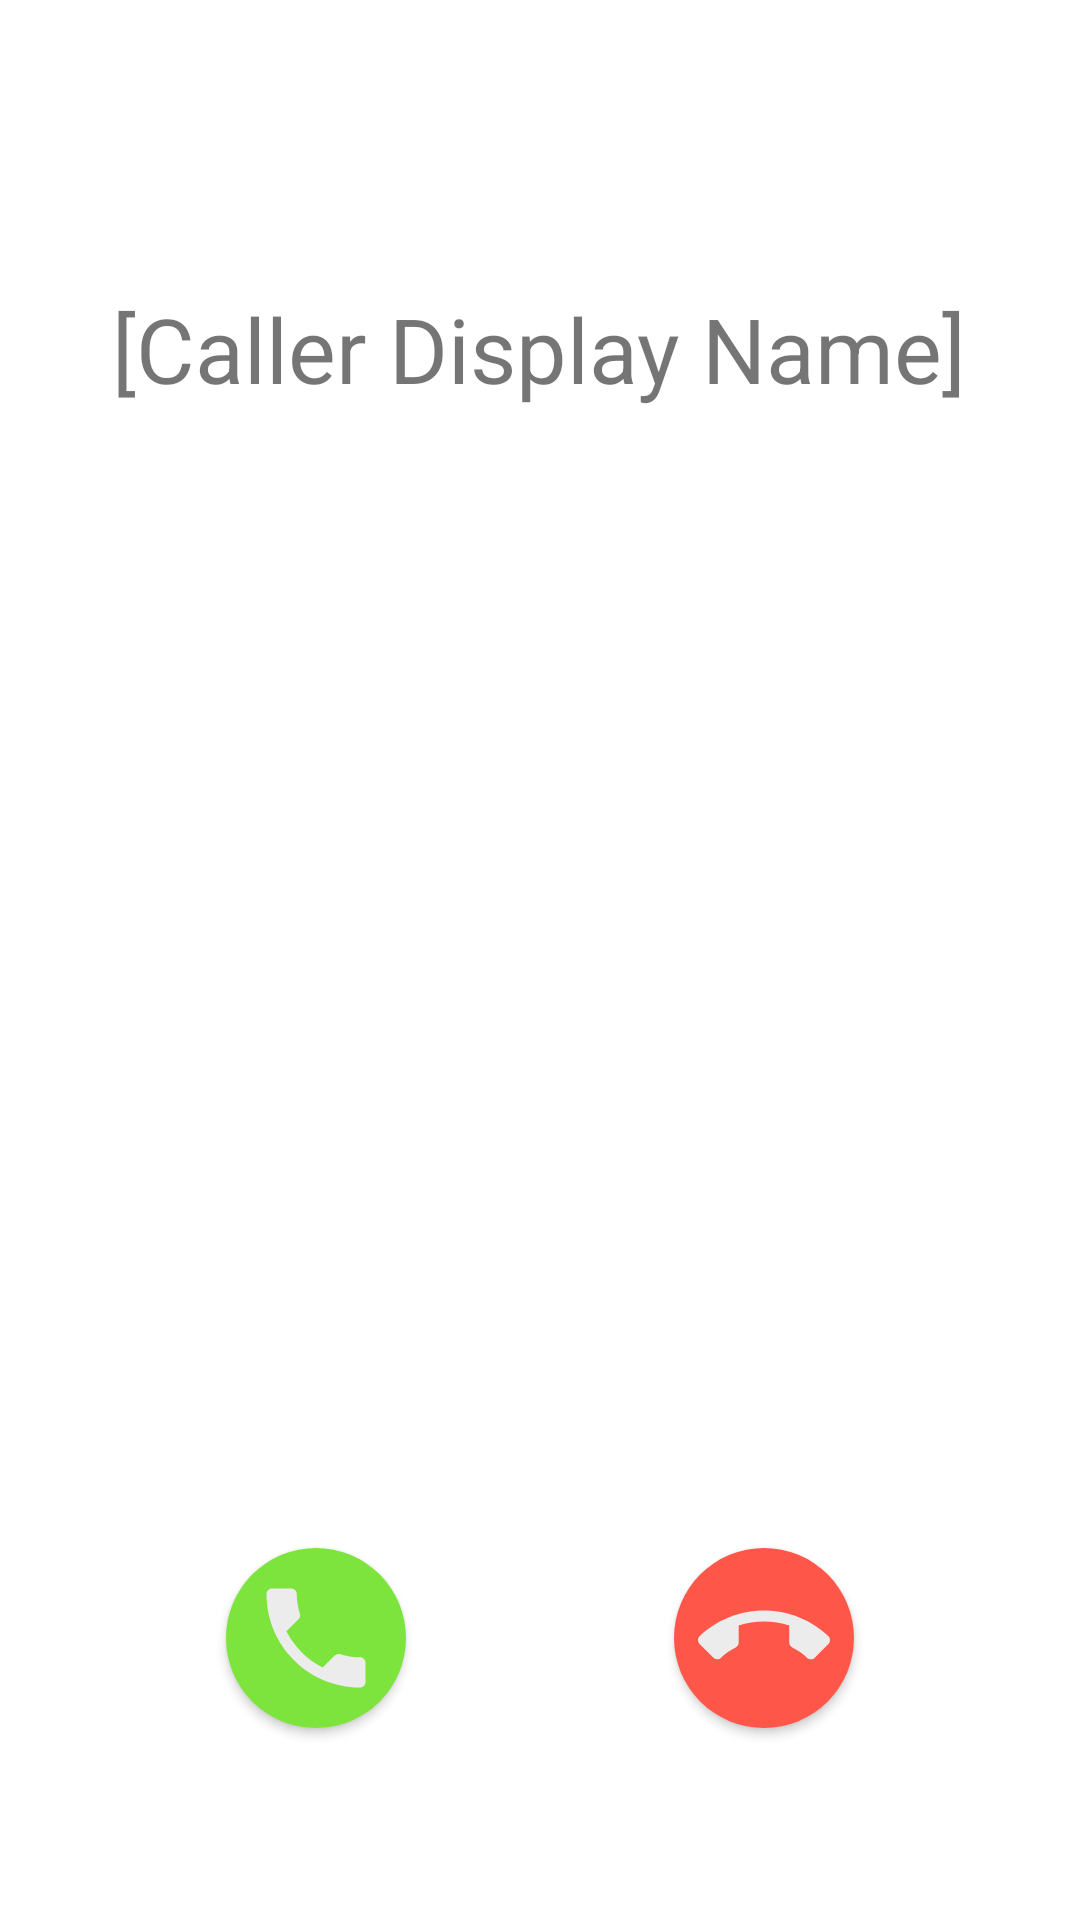

Icon bounding boxes for this 1080px×1920px phone screenshot, format detection(x1, y1, x2, y2):
accept call: detection(226, 1548, 406, 1728)
decline call: detection(674, 1548, 854, 1728)
